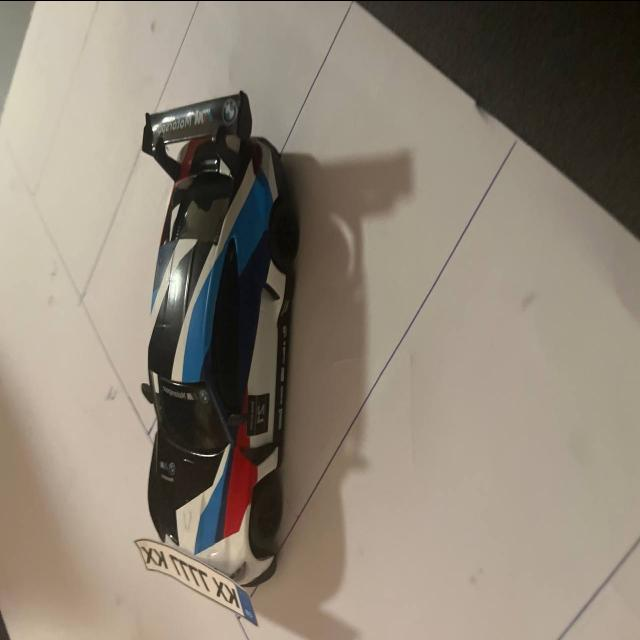cars: (121, 73, 312, 626)
